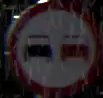No overtake: (6, 0, 102, 95)
